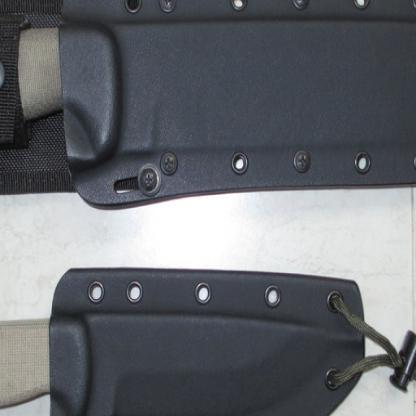knife: (0, 0, 415, 415), (0, 264, 415, 415)
